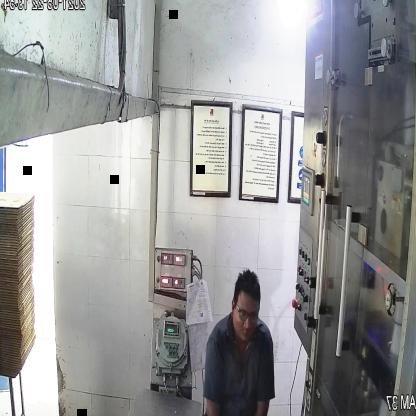goggles: (234, 304, 260, 326)
